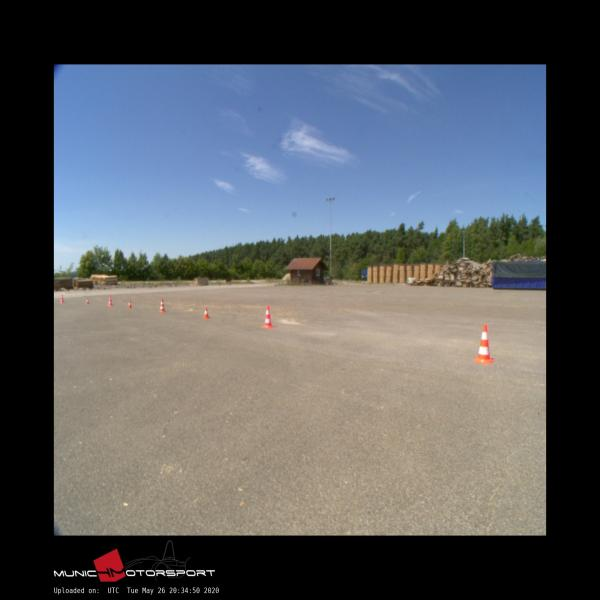large_orange_cone: (474, 324, 494, 363), (261, 305, 274, 327), (159, 298, 165, 312), (108, 294, 112, 306), (60, 294, 64, 303)
orange_cone: (203, 306, 209, 318), (128, 300, 132, 308), (86, 298, 90, 304)
